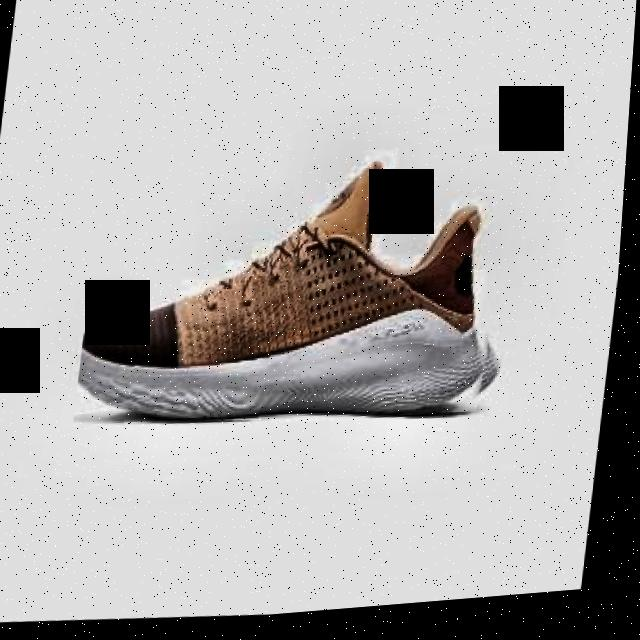shoe: (78, 145, 527, 450)
